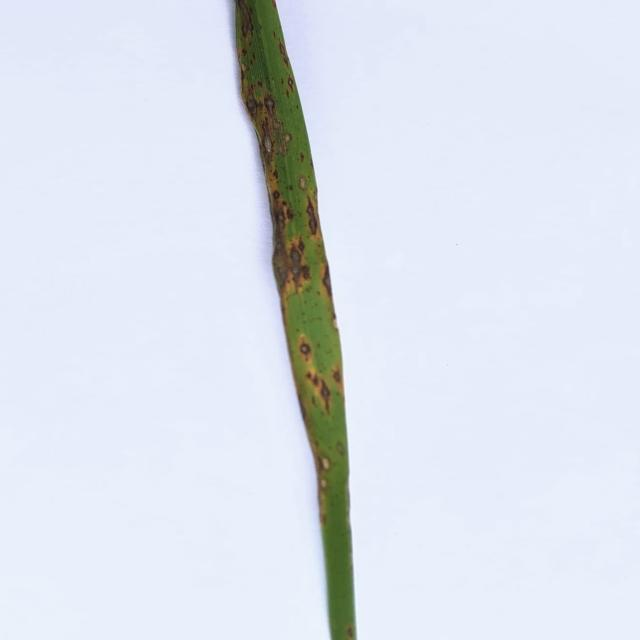leaf blast: (269, 242, 292, 288), (302, 195, 320, 238), (258, 119, 274, 167), (288, 244, 302, 293), (320, 376, 333, 416), (274, 39, 291, 69), (261, 94, 278, 118), (320, 265, 332, 298), (273, 206, 287, 232), (302, 371, 322, 387), (299, 337, 312, 358), (294, 237, 309, 253), (296, 175, 309, 192), (280, 130, 293, 147), (332, 366, 343, 386), (301, 262, 312, 282), (320, 455, 333, 471), (344, 624, 356, 640), (286, 76, 296, 93), (284, 207, 296, 221), (336, 440, 345, 457), (271, 189, 281, 201), (239, 59, 247, 73), (320, 477, 328, 489)
